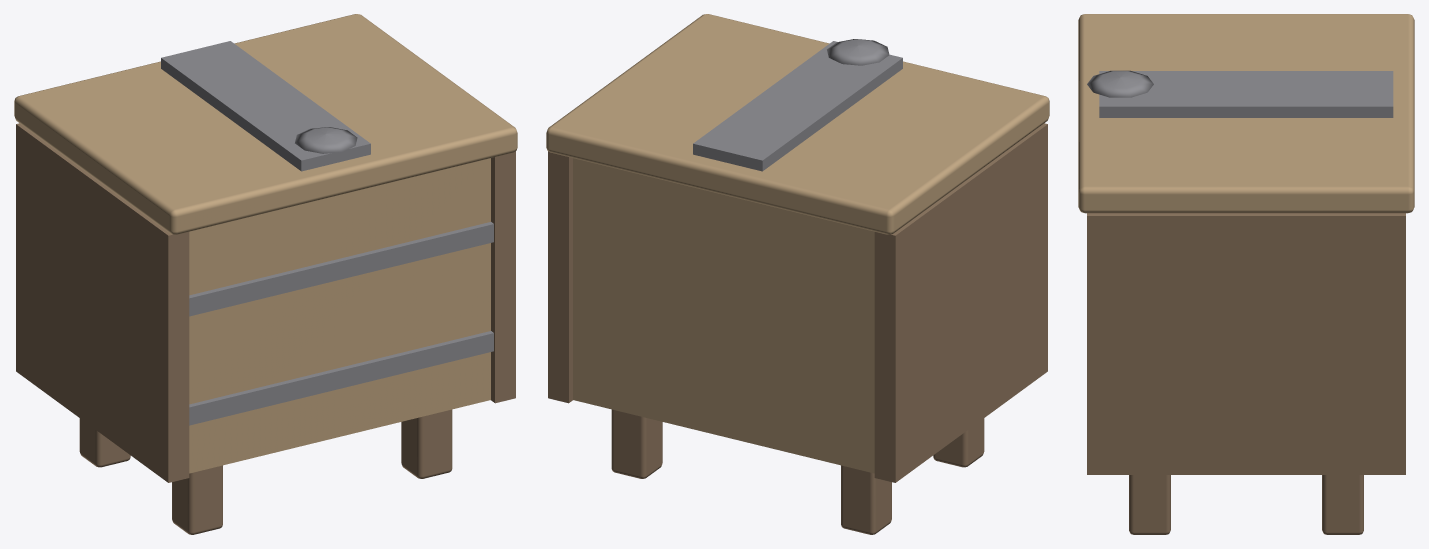
The model's file is korean-hanok-village-and-street-wooden-rice-chest-a32e48a3__38064.glb.
The picture shows the model from 3 angles, left to right: view 1: azimuth 30°, elevation 25°; view 2: azimuth 150°, elevation 25°; view 3: azimuth 270°, elevation 25°; orthographic projection. The views are drawn at different scales.
Parts seen in each view (by area): view 1: wooden-rice-chest, chest-lid/wood, chest-lid/iron; view 2: wooden-rice-chest, chest-lid/wood, chest-lid/iron; view 3: wooden-rice-chest, chest-lid/wood, chest-lid/iron.
Part boxes in pixels (<box>): wooden-rice-chest: <box>16,123,515,534</box>; chest-lid/wood: <box>14,14,517,234</box>; chest-lid/iron: <box>161,41,370,171</box>; wooden-rice-chest: <box>548,123,1047,534</box>; chest-lid/wood: <box>546,14,1049,234</box>; chest-lid/iron: <box>693,39,902,171</box>; wooden-rice-chest: <box>1087,213,1405,534</box>; chest-lid/wood: <box>1078,14,1414,213</box>; chest-lid/iron: <box>1087,70,1393,117</box>.
Bounding box in the file's own units: 1 × 1.03 × 0.8.
